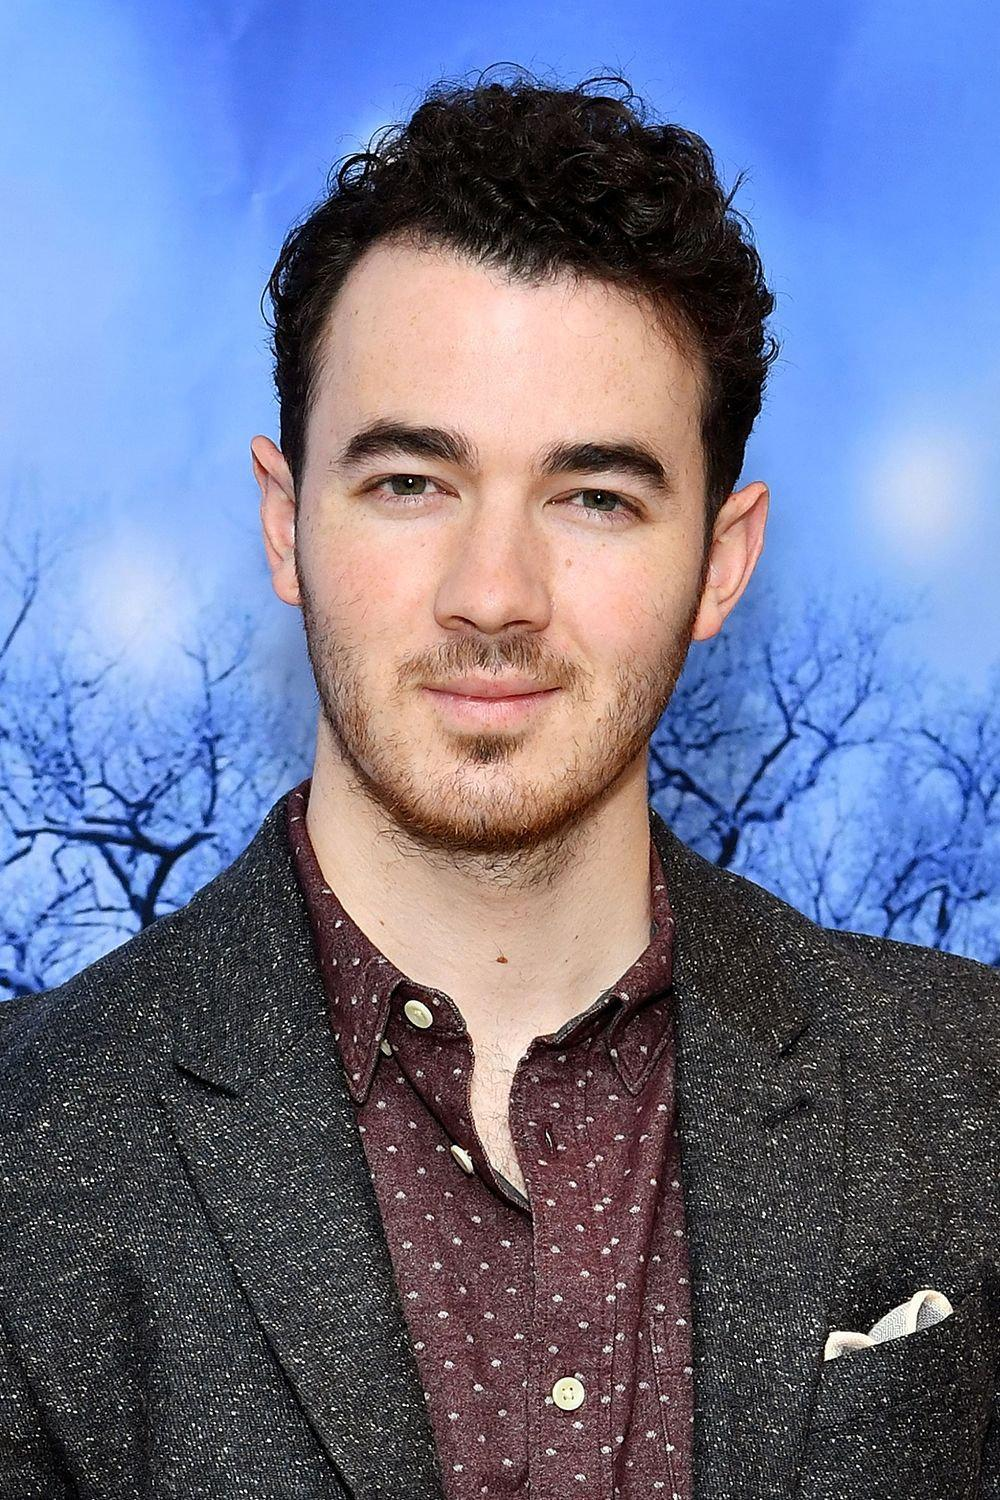Sober: (321, 254, 683, 820)
